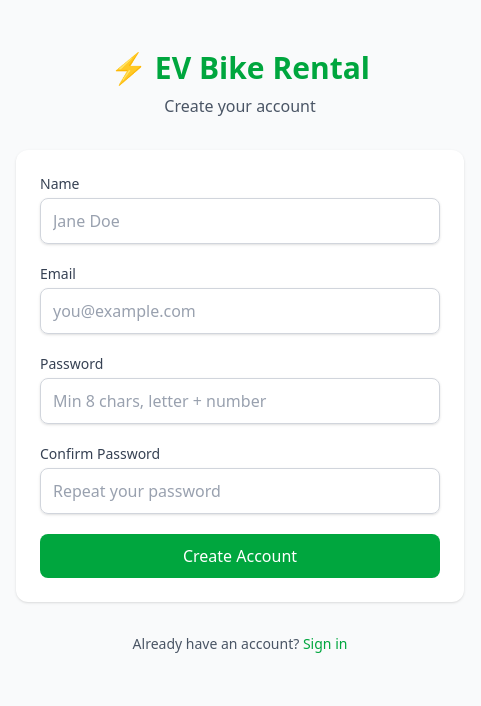
Test: Register Page › validates name is required
Click the button "Create Account" at (240, 556), box [40,534,440,578]
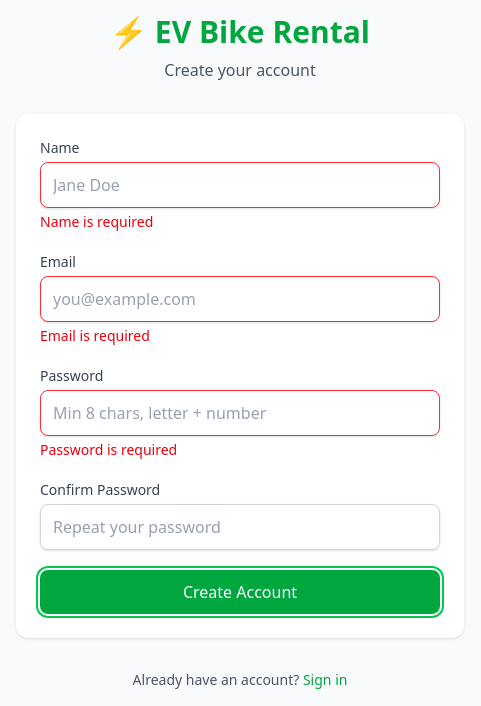
Expected: the text "Name is required" is shown, [40,212,153,231]
